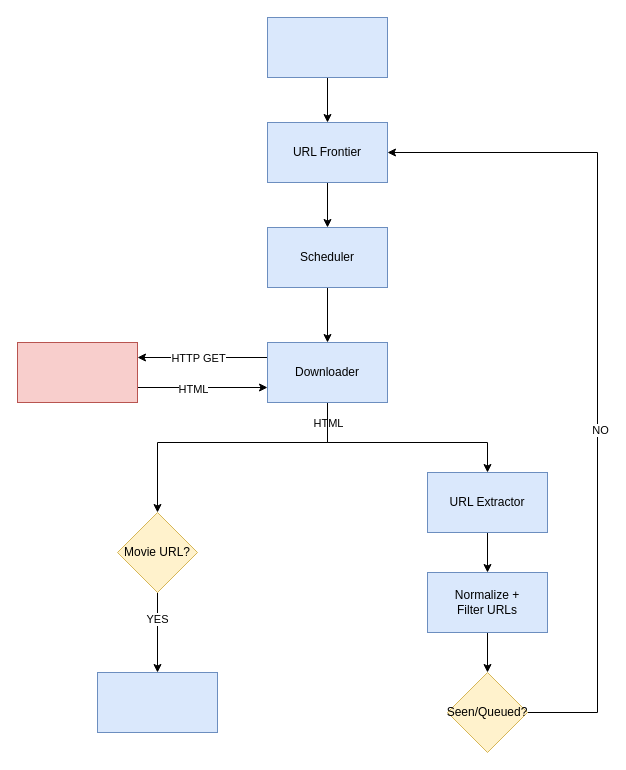
The diagram is 626 pixels wide and 770 high, and some of its shapes have lost their labels. The centre of each missing label's shape, as x and y in pixels:
Raw HTML Storage: [157,702]
Rotten Tomatoes 🍅: [77,372]
Seed URLs: [327,47]
